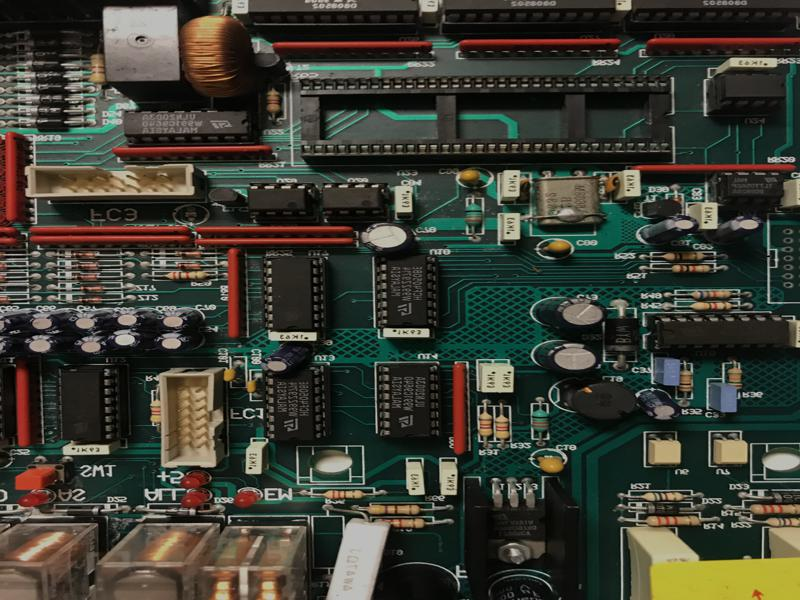Capacitor: (532, 295, 607, 332), (531, 337, 601, 373), (358, 222, 415, 257), (640, 215, 700, 246), (260, 343, 312, 376), (717, 213, 763, 244), (25, 306, 77, 333), (637, 389, 678, 423), (68, 307, 116, 333), (156, 307, 206, 331), (112, 305, 160, 329), (23, 333, 71, 357), (73, 333, 116, 359), (153, 332, 204, 353), (109, 329, 153, 353)
Diode: (607, 312, 637, 358), (20, 117, 83, 130), (60, 249, 121, 261), (55, 503, 111, 516), (637, 504, 687, 517), (20, 39, 71, 51), (22, 95, 82, 105), (20, 61, 73, 72), (21, 83, 79, 93), (22, 50, 70, 62), (156, 505, 203, 517), (20, 27, 69, 38), (60, 261, 118, 270), (23, 107, 84, 115), (23, 72, 76, 81), (761, 491, 800, 503), (167, 260, 208, 271), (163, 249, 211, 258), (69, 272, 105, 282), (74, 284, 110, 294), (74, 295, 109, 304)
LED: (234, 488, 260, 511), (180, 490, 210, 509), (18, 491, 50, 508), (179, 472, 210, 489)
Resistor: (638, 514, 702, 528), (366, 501, 425, 516), (87, 47, 107, 89), (744, 501, 800, 516), (631, 490, 690, 503), (370, 518, 430, 530), (529, 406, 550, 438), (464, 200, 483, 235), (652, 251, 712, 262), (266, 86, 284, 121), (493, 409, 511, 443), (678, 290, 738, 300), (316, 489, 370, 500), (676, 366, 694, 399), (159, 270, 212, 281), (657, 264, 715, 274), (478, 407, 495, 441), (676, 302, 739, 311), (726, 364, 743, 393), (150, 393, 163, 428), (755, 518, 800, 526)
